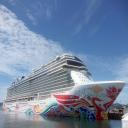cruises: (3, 53, 128, 122)
